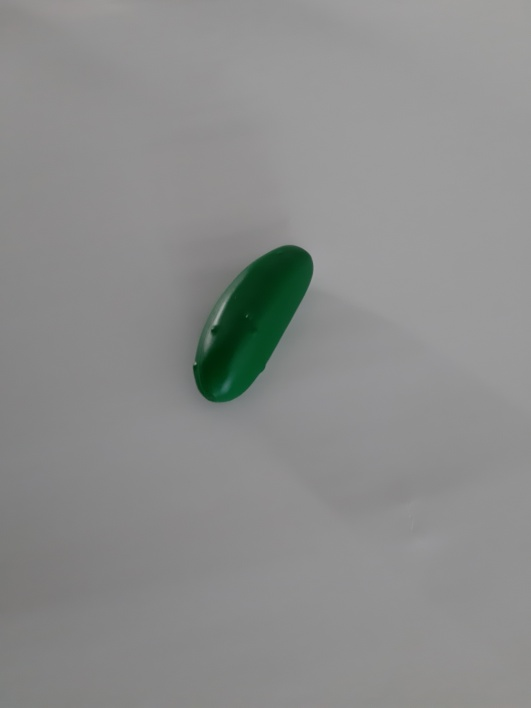cucumber: (170, 224, 332, 420)
